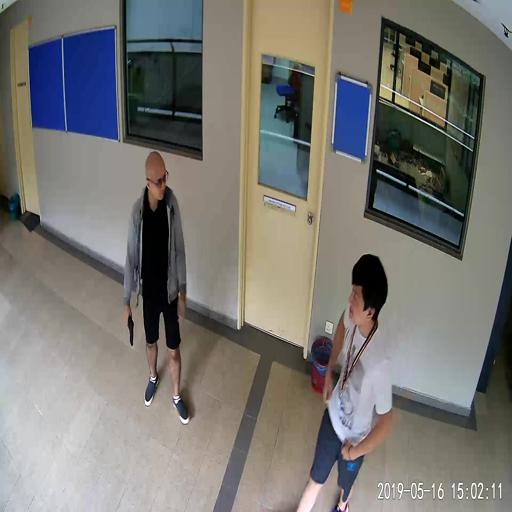pistol: (124, 312, 134, 345)
